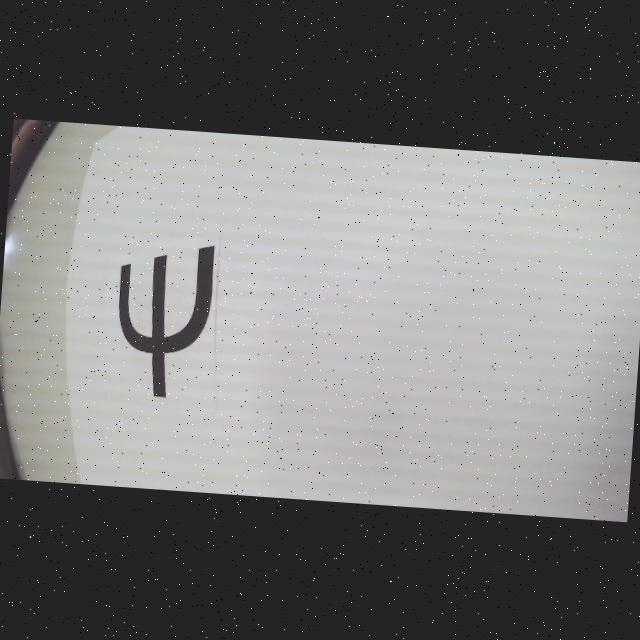PSI: (111, 238, 216, 402)
